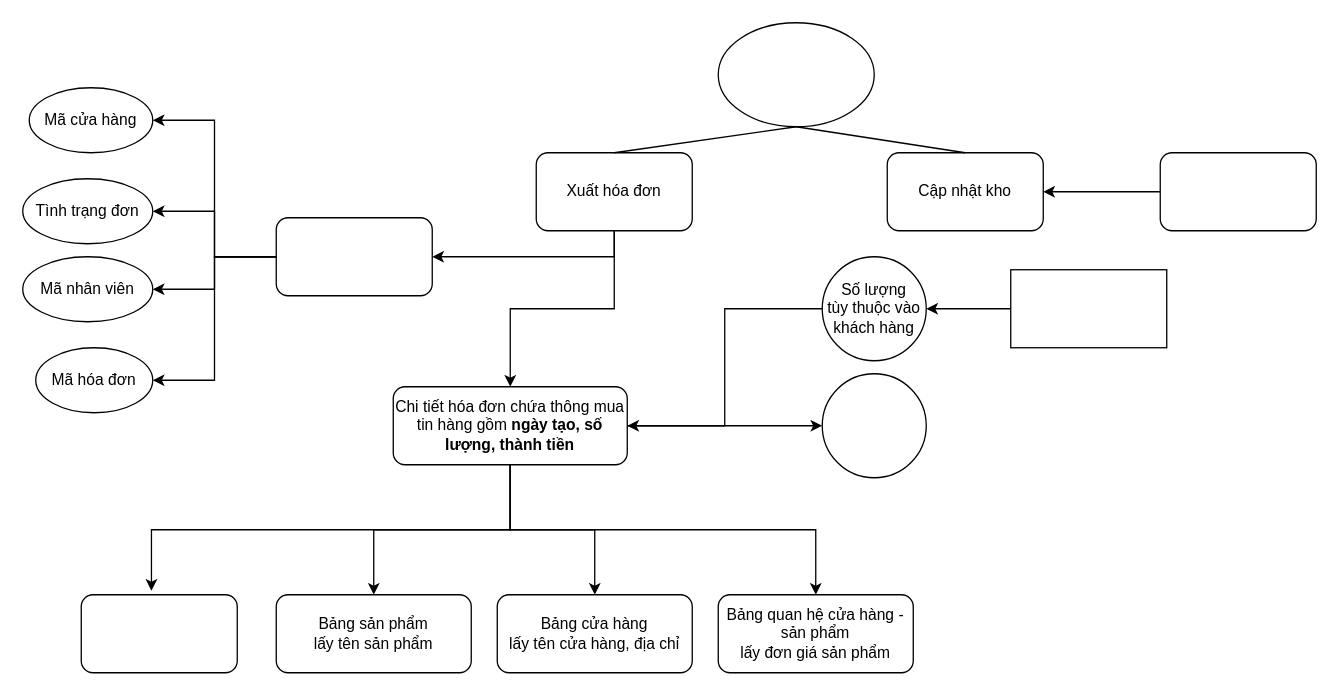
The diagram is 1339 pixels wide and 696 high, and some of its shapes have lost their labels. Here are the shapes that lost their labels. From the top down, the box of each, then its label:
(717, 21, 874, 127): Bán hàng
(1159, 151, 1316, 231): Số lượng tồn - số lượng trên hóa đơn = số lượng mới
(275, 216, 432, 296): Lưu hóa đơn vào bảng hóa đơn
(1009, 268, 1167, 348): Khách vãng lai
(821, 372, 926, 478): số lượng x đơn giá = thành tiền
(80, 593, 237, 673): Bảng nhân viên lấy tên nhân viên
